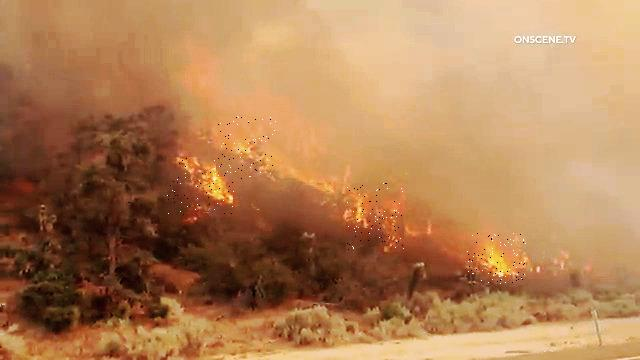fire: (168, 158, 236, 216), (346, 184, 404, 251), (219, 117, 277, 180), (466, 232, 526, 285)
